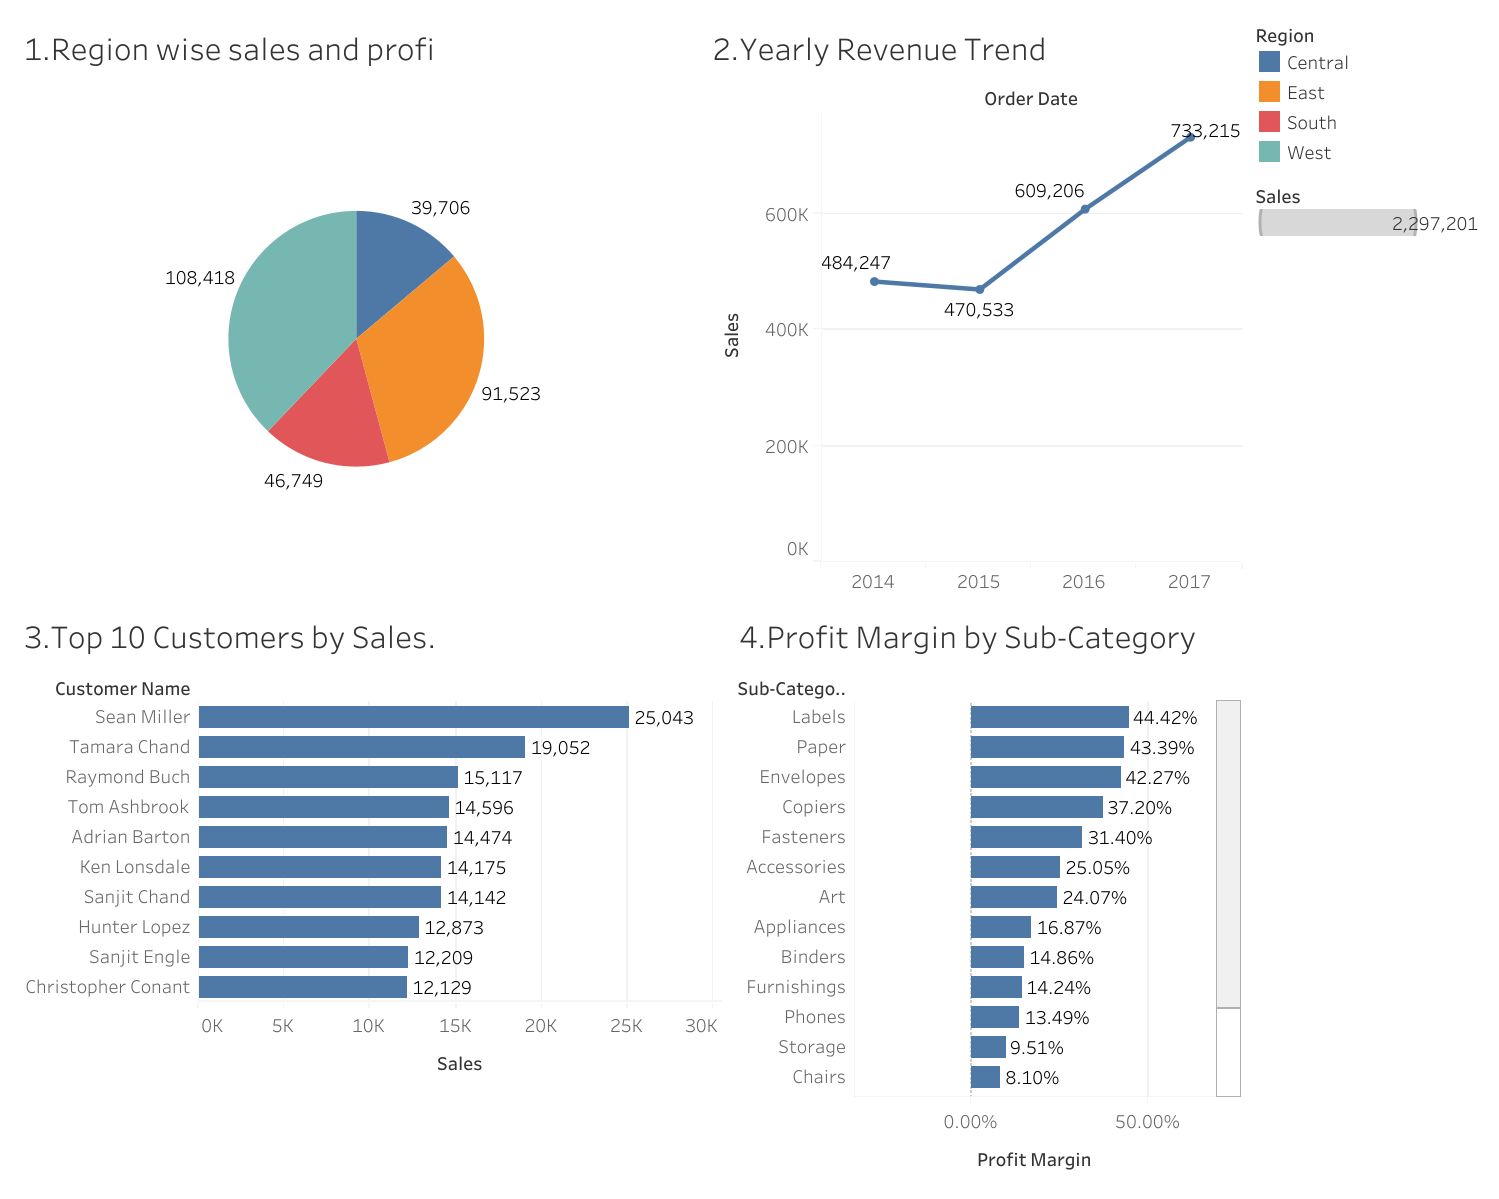

The dashboard page shown, as its layout file describes it:
{"tool":"tableau","page":{"name":"Super Store Sales Insights Dashboard","canvas":[1000,800],"ordinal":0},"visuals":[{"type":"worksheet","title":"1.Region wise sales and profi","mark":"Pie","box":[8,8,459,392]},{"type":"worksheet","title":"2.Yearly Revenue Trend","mark":"Automatic","rows":["Sales"],"cols":["Order Date"],"box":[467,8,365,392]},{"type":"legend","title":"1.Region wise sales and profi","param":"[federated.049t7r61c4cng111pzcd214chyz7].[none:Region:nk]","box":[832,8,160,107]},{"type":"legend","title":"1.Region wise sales and profi","param":"[federated.049t7r61c4cng111pzcd214chyz7].[sum:Sales:qk]","box":[832,115,160,47]},{"type":"worksheet","title":"3.Top 10 Customers by Sales.","mark":"Automatic","rows":["Customer Name"],"cols":["Sales"],"box":[8,400,477,392]},{"type":"worksheet","title":"4.Profit Margin by Sub-Category","mark":"Automatic","rows":["Sub-Category"],"cols":["Calculation_1125952859684907"],"box":[485,400,347,392]}]}

Visuals, with their boxes in screenshot pixels (x1, y1, x2, y2), scaled from the page's 1000x800 canvas onto the 1499x1199 screenshot:
"1.Region wise sales and profi" worksheet (Pie marks): x1=12, y1=12, x2=700, y2=600
"2.Yearly Revenue Trend" worksheet: x1=700, y1=12, x2=1247, y2=600
"1.Region wise sales and profi" legend: x1=1247, y1=12, x2=1487, y2=172
"1.Region wise sales and profi" legend: x1=1247, y1=172, x2=1487, y2=243
"3.Top 10 Customers by Sales." worksheet: x1=12, y1=600, x2=727, y2=1187
"4.Profit Margin by Sub-Category" worksheet: x1=727, y1=600, x2=1247, y2=1187
